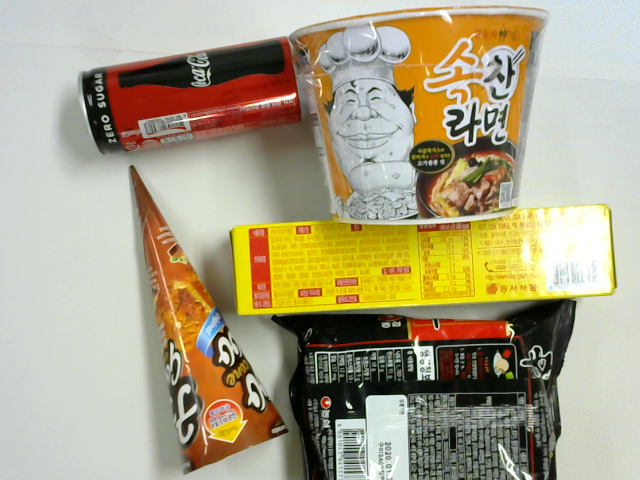Coca_Cola_Zero_Can_250ml: (76, 35, 302, 153)
GooGoo_Cone_CVS: (126, 160, 300, 474)
Hejangchan: (289, 8, 556, 216)
Ritz_Remon_96g: (228, 204, 615, 314)
Sinramen_Black: (278, 301, 572, 480)
